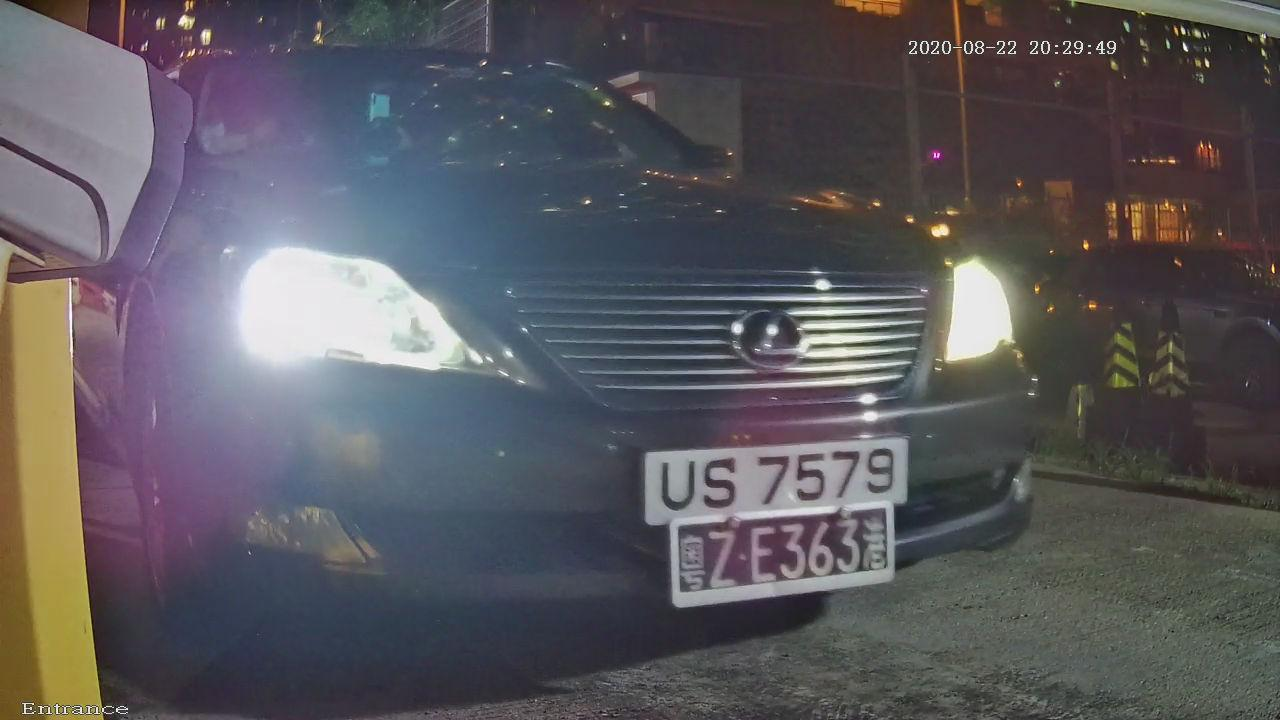Car: (1, 1, 1138, 701)
License Plate: (606, 388, 970, 563)
